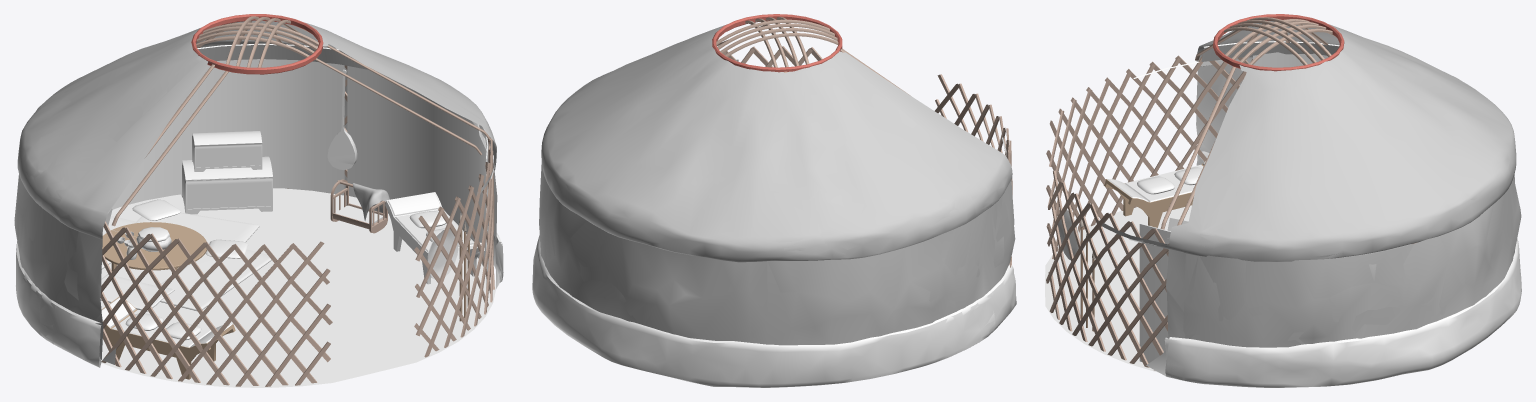
File: yurta.glb
3 renders of one model, left to right at view 1: azimuth 30°, elevation 25°; view 2: azimuth 150°, elevation 25°; view 3: azimuth 270°, elevation 25°, orthographic.
Parts seen in each view (by area): view 1: bottom_72, Kerege_76, Object_36, Object_30, Object_70, Object_34, Object_8, Object_60, Object_4, Object_72, Object_50, Object_66 (+27 smaller); view 2: Object_30, Object_4, Object_56, Object_34, Object_8, Kerege_76, Object_60, Object_100, Object_94, Object_98, Object_88, Object_96; view 3: Object_30, Object_8, Kerege_76, Object_56, Object_4, bottom_72, Object_34, Object_70, Object_100, Object_46, Object_20, cloth_73 (+6 smaller).
Part boxes in pixels (bbox=[...]): bottom_72: bbox=[100, 188, 495, 387]; Kerege_76: bbox=[100, 65, 494, 386]; Object_36: bbox=[112, 59, 344, 209]; Object_30: bbox=[17, 20, 496, 220]; Object_70: bbox=[347, 66, 488, 289]; Object_34: bbox=[19, 22, 495, 239]; Object_8: bbox=[15, 106, 494, 364]; Object_60: bbox=[22, 242, 503, 367]; Object_4: bbox=[14, 70, 502, 300]; Object_72: bbox=[160, 249, 271, 311]; Object_50: bbox=[102, 222, 206, 270]; Object_66: bbox=[181, 156, 272, 214]; Object_30: bbox=[541, 26, 991, 262]; Object_4: bbox=[539, 161, 1004, 344]; Object_56: bbox=[532, 235, 995, 387]; Object_34: bbox=[549, 24, 1012, 260]; Object_8: bbox=[539, 164, 1015, 345]; Kerege_76: bbox=[723, 46, 1012, 267]; Object_60: bbox=[939, 264, 1016, 340]; Object_100: bbox=[712, 14, 842, 72]; Object_94: bbox=[720, 28, 837, 53]; Object_98: bbox=[717, 23, 834, 49]; Object_88: bbox=[725, 33, 838, 56]; Object_96: bbox=[716, 19, 829, 45]; Object_30: bbox=[1129, 21, 1516, 261]; Object_8: bbox=[1183, 64, 1516, 347]; Kerege_76: bbox=[1046, 54, 1416, 370]; Object_56: bbox=[1146, 238, 1521, 387]; Object_4: bbox=[1165, 65, 1521, 373]; bottom_72: bbox=[1045, 205, 1191, 372]; Object_34: bbox=[1098, 21, 1509, 255]; Object_70: bbox=[1139, 223, 1410, 363]; Object_100: bbox=[1213, 14, 1344, 71]; Object_46: bbox=[1103, 161, 1205, 227]; Object_20: bbox=[1107, 161, 1205, 202]; cloth_73: bbox=[1167, 41, 1339, 231].
Size of the model in its own units: 660 by 394 by 644.
